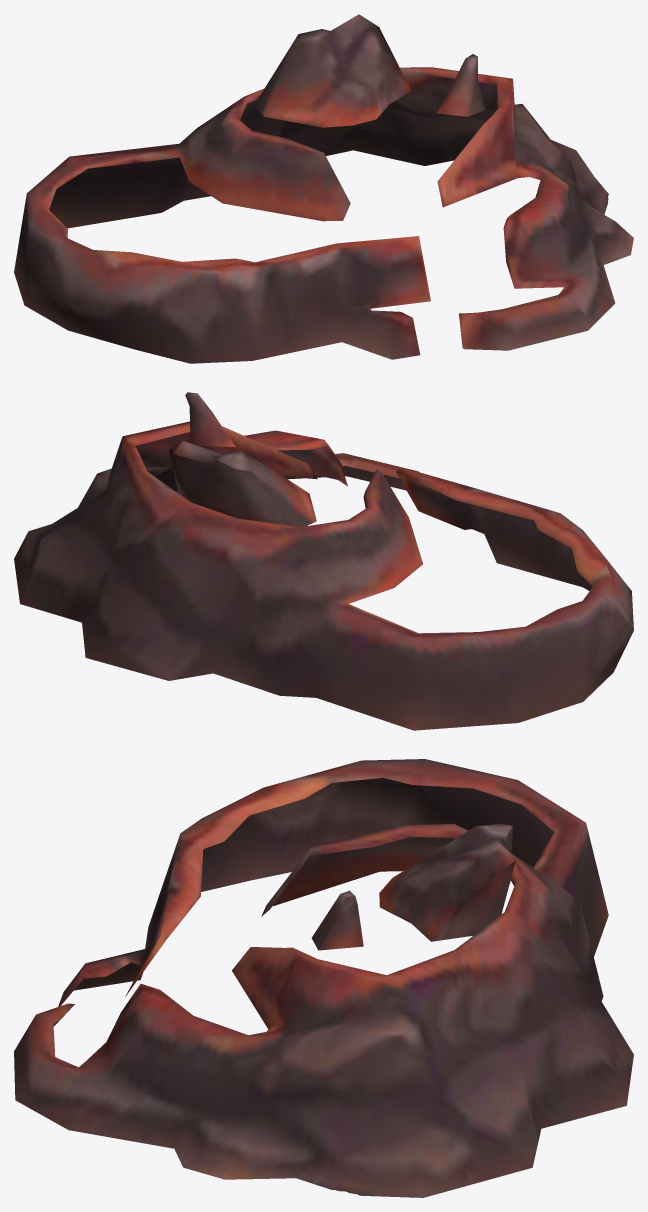
Rendered from huoshan_shitou01.fbx.
3 views of the same model, one above another, from view 1: azimuth 30°, elevation 25°; view 2: azimuth 150°, elevation 25°; view 3: azimuth 270°, elevation 25° (orthographic). The views are drawn at different scales.
Parts seen in each view (by area): view 1: huoshan_shitou01; view 2: huoshan_shitou01; view 3: huoshan_shitou01.
Boxes of the visible parts, bbox=[...] form: huoshan_shitou01: bbox=[14, 14, 633, 363]; huoshan_shitou01: bbox=[14, 392, 633, 730]; huoshan_shitou01: bbox=[14, 759, 633, 1197].
Size of the model in its own units: 7.84 by 2.45 by 5.97.
